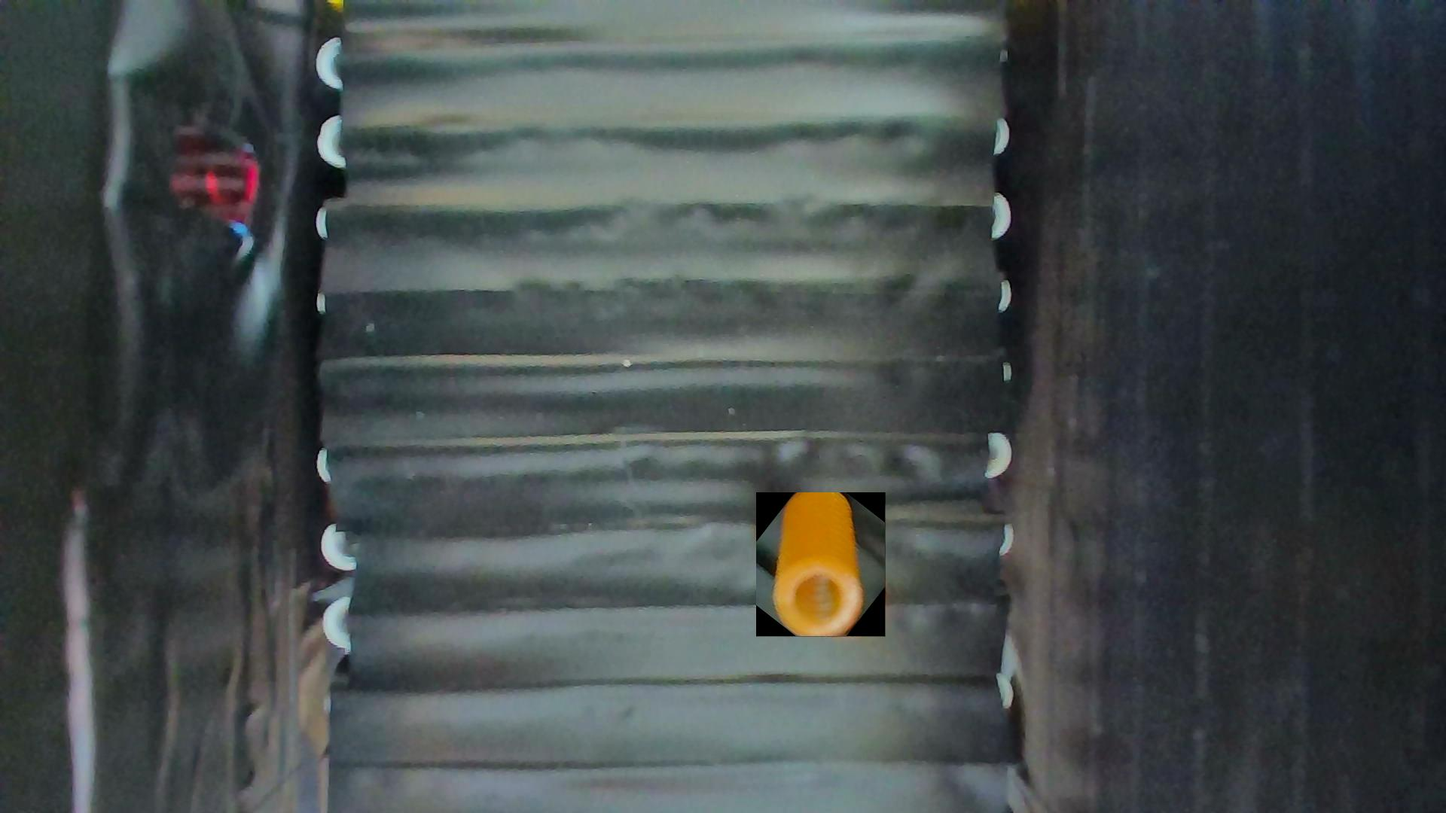spring: (757, 493, 886, 637)
